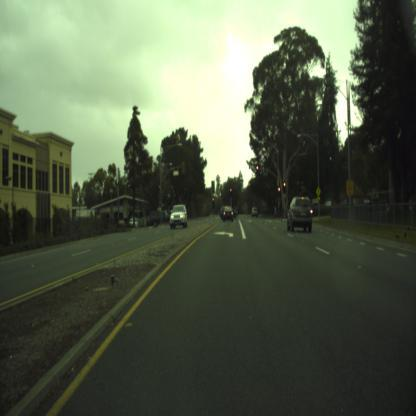Red: (282, 182, 286, 193), (256, 164, 258, 176), (278, 186, 280, 196)
RedLeft: (211, 198, 214, 208), (230, 188, 233, 197)
